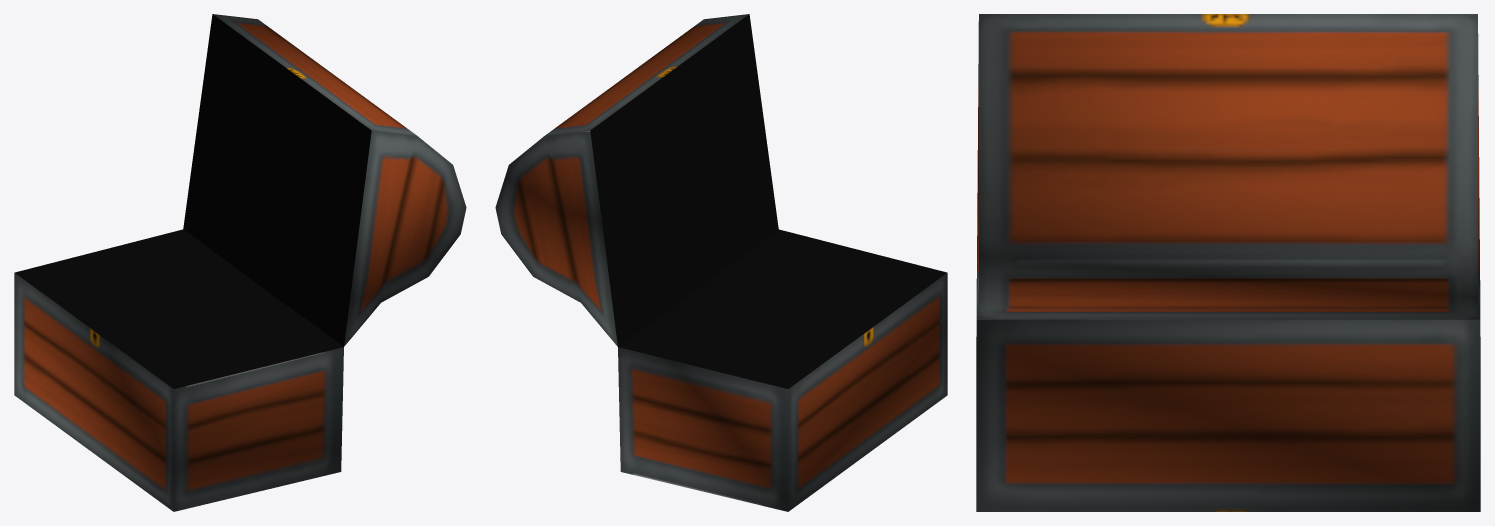
Rendered from cofrenormal_000011.obj.
3 views of the same model, side by side, from view 1: azimuth 30°, elevation 25°; view 2: azimuth 150°, elevation 25°; view 3: azimuth 270°, elevation 25° (orthographic). The views are drawn at different scales.
Parts seen in each view (by area): view 1: cofre; view 2: cofre; view 3: cofre.
Boxes of the visible parts, left/top/right/bottom form: cofre: left=14, top=14, right=466, bottom=511; cofre: left=495, top=14, right=947, bottom=511; cofre: left=976, top=14, right=1480, bottom=511.
Size of the model in its own units: 6.66 by 7.24 by 6.34.
